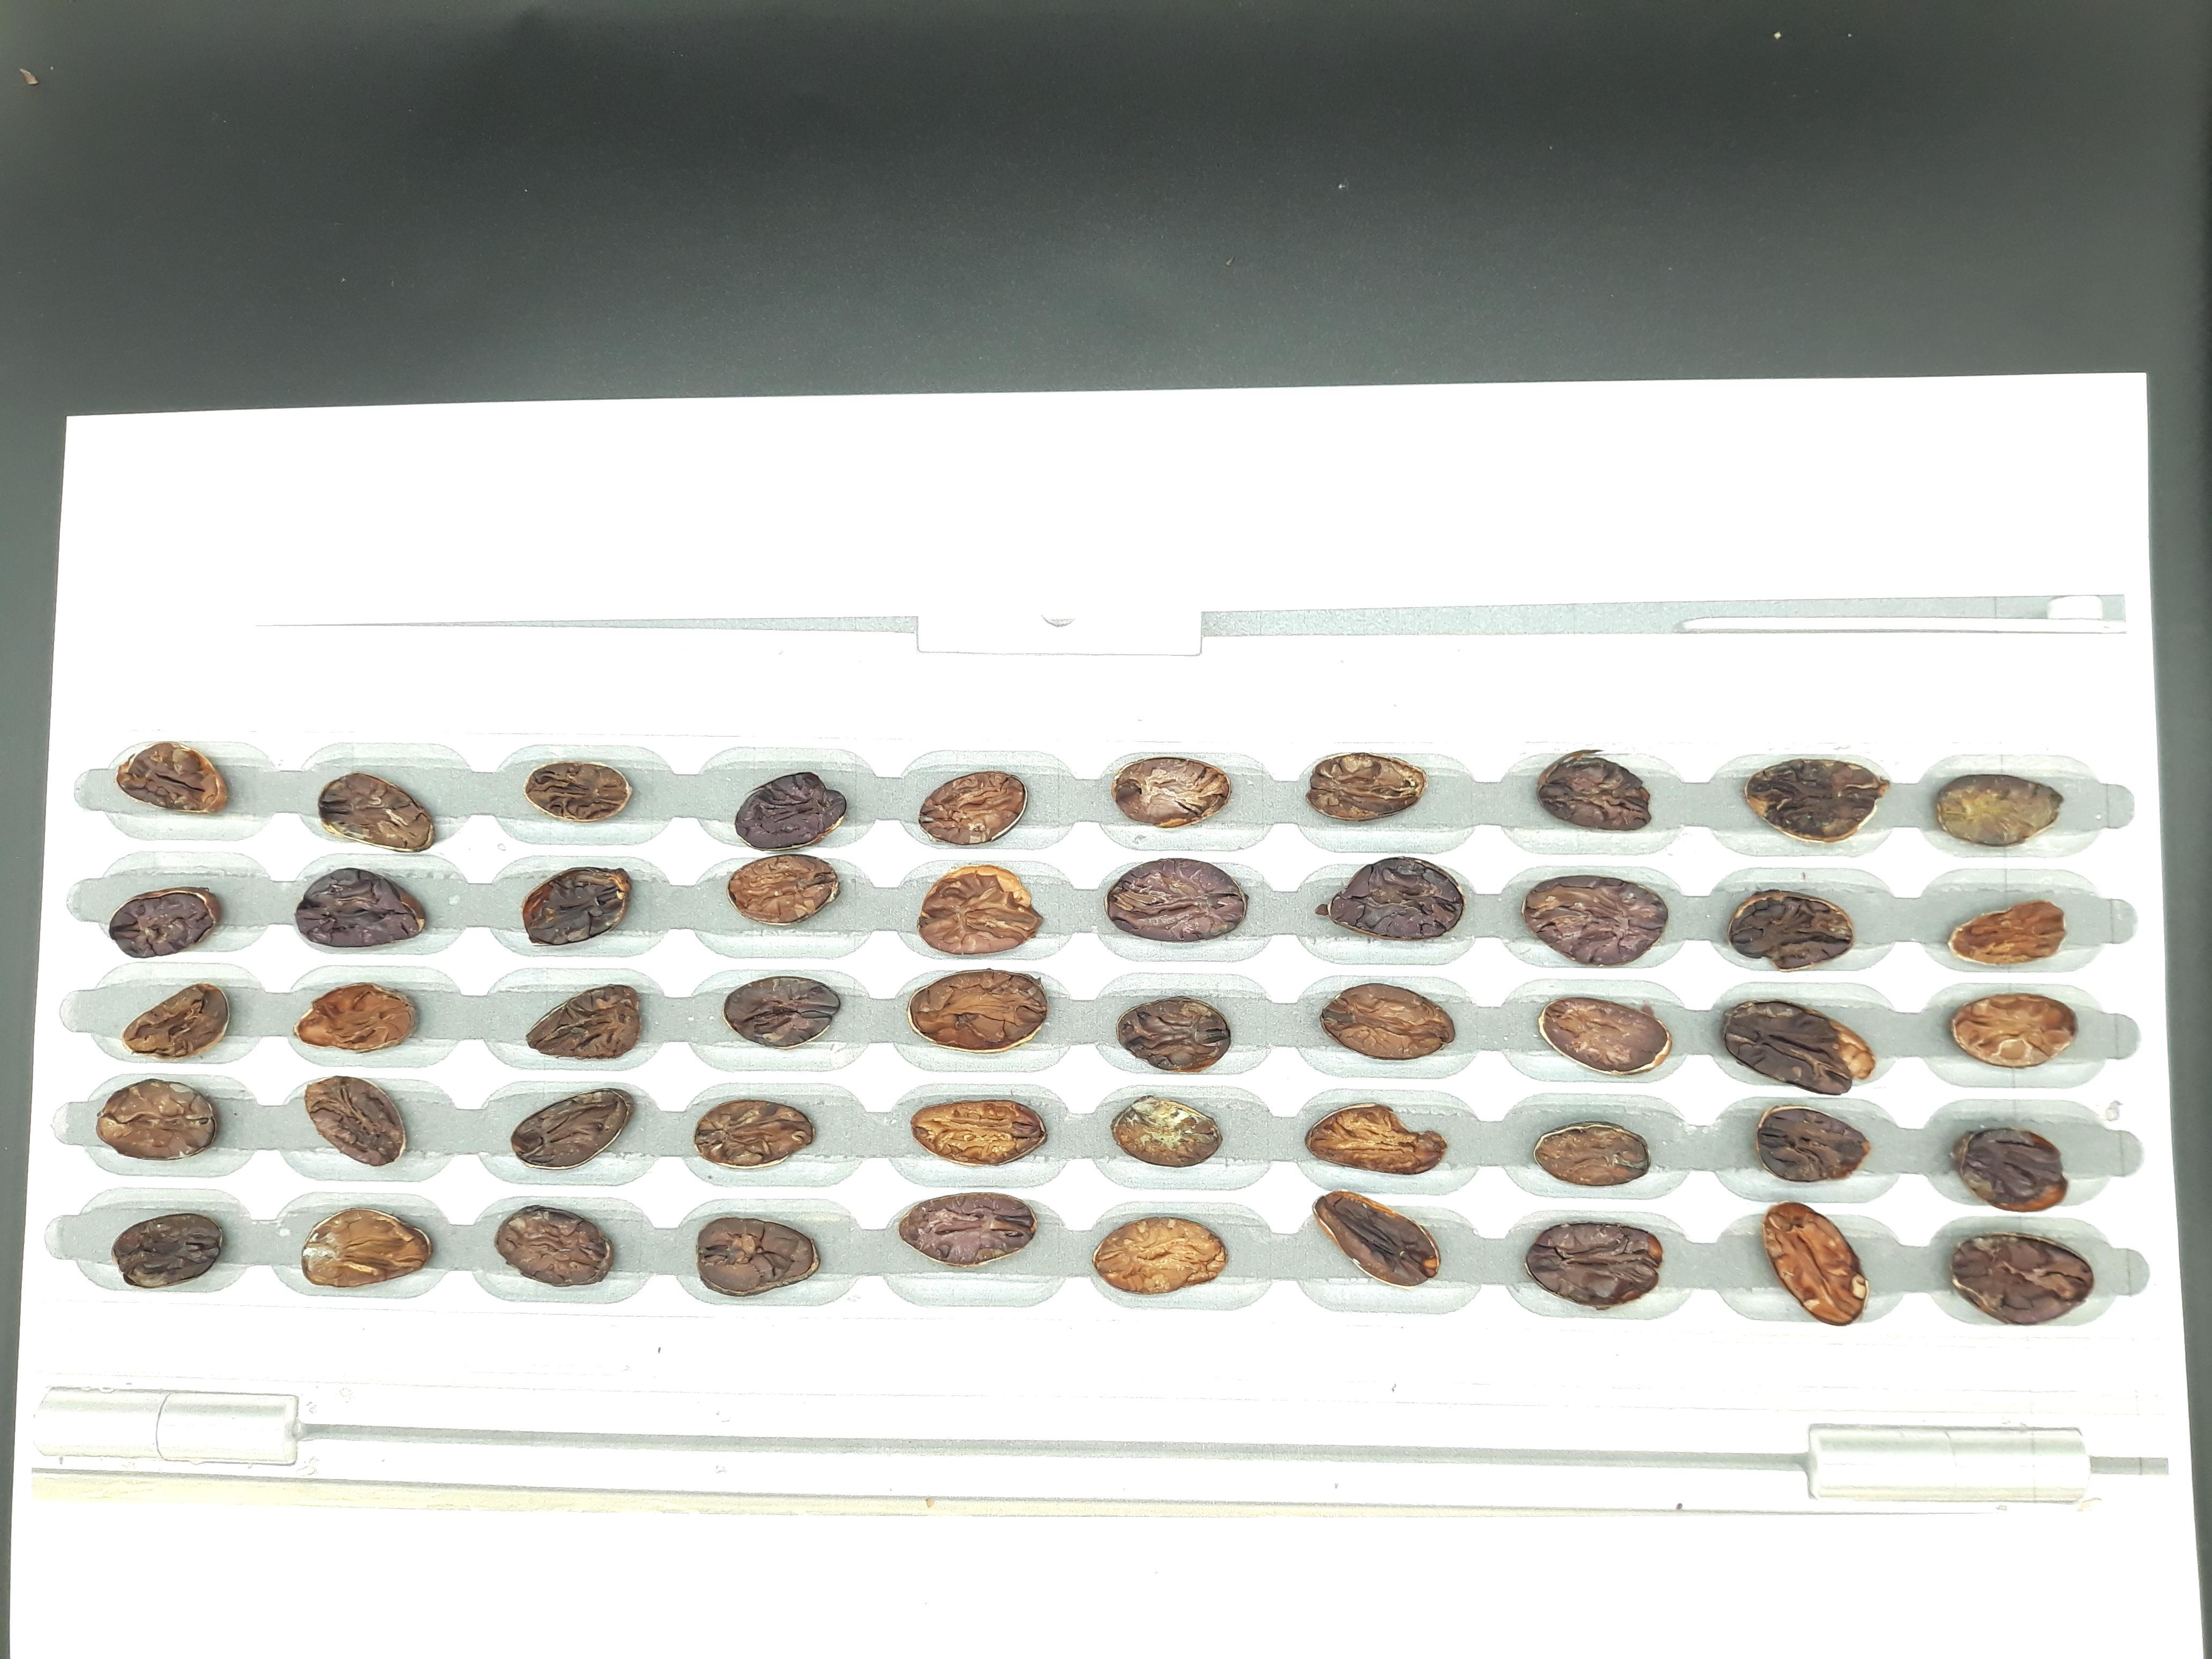Brown - G1: (1986, 592, 2045, 662), (1569, 427, 1637, 477), (1757, 371, 1831, 413), (2078, 443, 2144, 486), (1458, 540, 1522, 582)
Brown - G2: (1761, 544, 1838, 586), (1562, 542, 1637, 584), (2078, 491, 2149, 535), (1374, 483, 1437, 532), (1169, 364, 1231, 411), (1569, 378, 1629, 425), (1259, 486, 1325, 526)
Brown - G3: (1564, 479, 1641, 526), (1158, 532, 1228, 582), (1766, 484, 1839, 532), (1653, 601, 1728, 647), (1357, 594, 1425, 643), (1169, 483, 1237, 530), (1268, 380, 1336, 427), (1261, 532, 1322, 584), (1663, 373, 1728, 415), (1474, 422, 1536, 464)
Brown - G4: (1874, 556, 1937, 594)
Insect-damaged: (2073, 378, 2142, 425)
Mouldy: (1258, 592, 1332, 647), (1665, 540, 1726, 584)
Partly Purple - G1: (1972, 436, 2040, 486), (1984, 545, 2048, 589)
Partly Purple - G2: (1865, 430, 1944, 486), (1869, 603, 1944, 653)
Partly Purple - G3: (1557, 591, 1634, 633)
Partly Purple - G4: (1876, 491, 1947, 538)
Total Purple - G3: (1766, 420, 1846, 472), (1660, 422, 1738, 471), (1474, 378, 1540, 425), (1167, 434, 1228, 481)
Very Dark Brown - G1: (1965, 490, 2052, 547), (1979, 371, 2055, 425), (2078, 554, 2144, 605), (1372, 371, 1433, 413)
Very Dark Brown - G2: (1763, 587, 1839, 643), (2078, 610, 2158, 662), (1259, 429, 1331, 477), (1874, 368, 1940, 418), (1665, 490, 1731, 538), (1169, 596, 1231, 645), (1371, 425, 1435, 472)
Very Dark Brown - G3: (1456, 599, 1526, 650), (1366, 537, 1433, 587), (1472, 479, 1536, 525)
